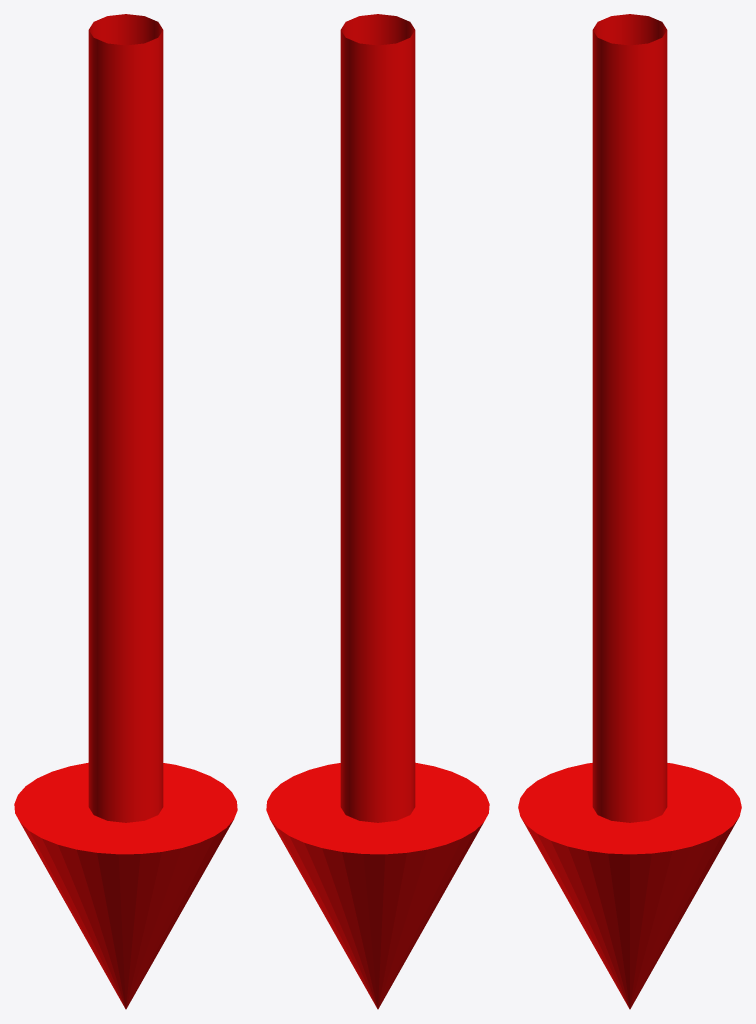
The model's file is DCforce.glb.
The picture shows the model from 3 angles, left to right: view 1: azimuth 30°, elevation 25°; view 2: azimuth 150°, elevation 25°; view 3: azimuth 270°, elevation 25°; orthographic projection.
Parts seen in each view (by area): view 1: NURBSパス, 円錐.003; view 2: NURBSパス, 円錐.003; view 3: NURBSパス, 円錐.003.
Boxes of the visible parts, box(x1,y1,x2,y2) form: NURBSパス: box(88, 14, 163, 822); 円錐.003: box(14, 762, 237, 1009); NURBSパス: box(340, 14, 415, 822); 円錐.003: box(266, 762, 489, 1009); NURBSパス: box(592, 14, 667, 822); 円錐.003: box(518, 763, 741, 1009).
Size of the model in its own units: 0.3 by 1.45 by 0.3.
